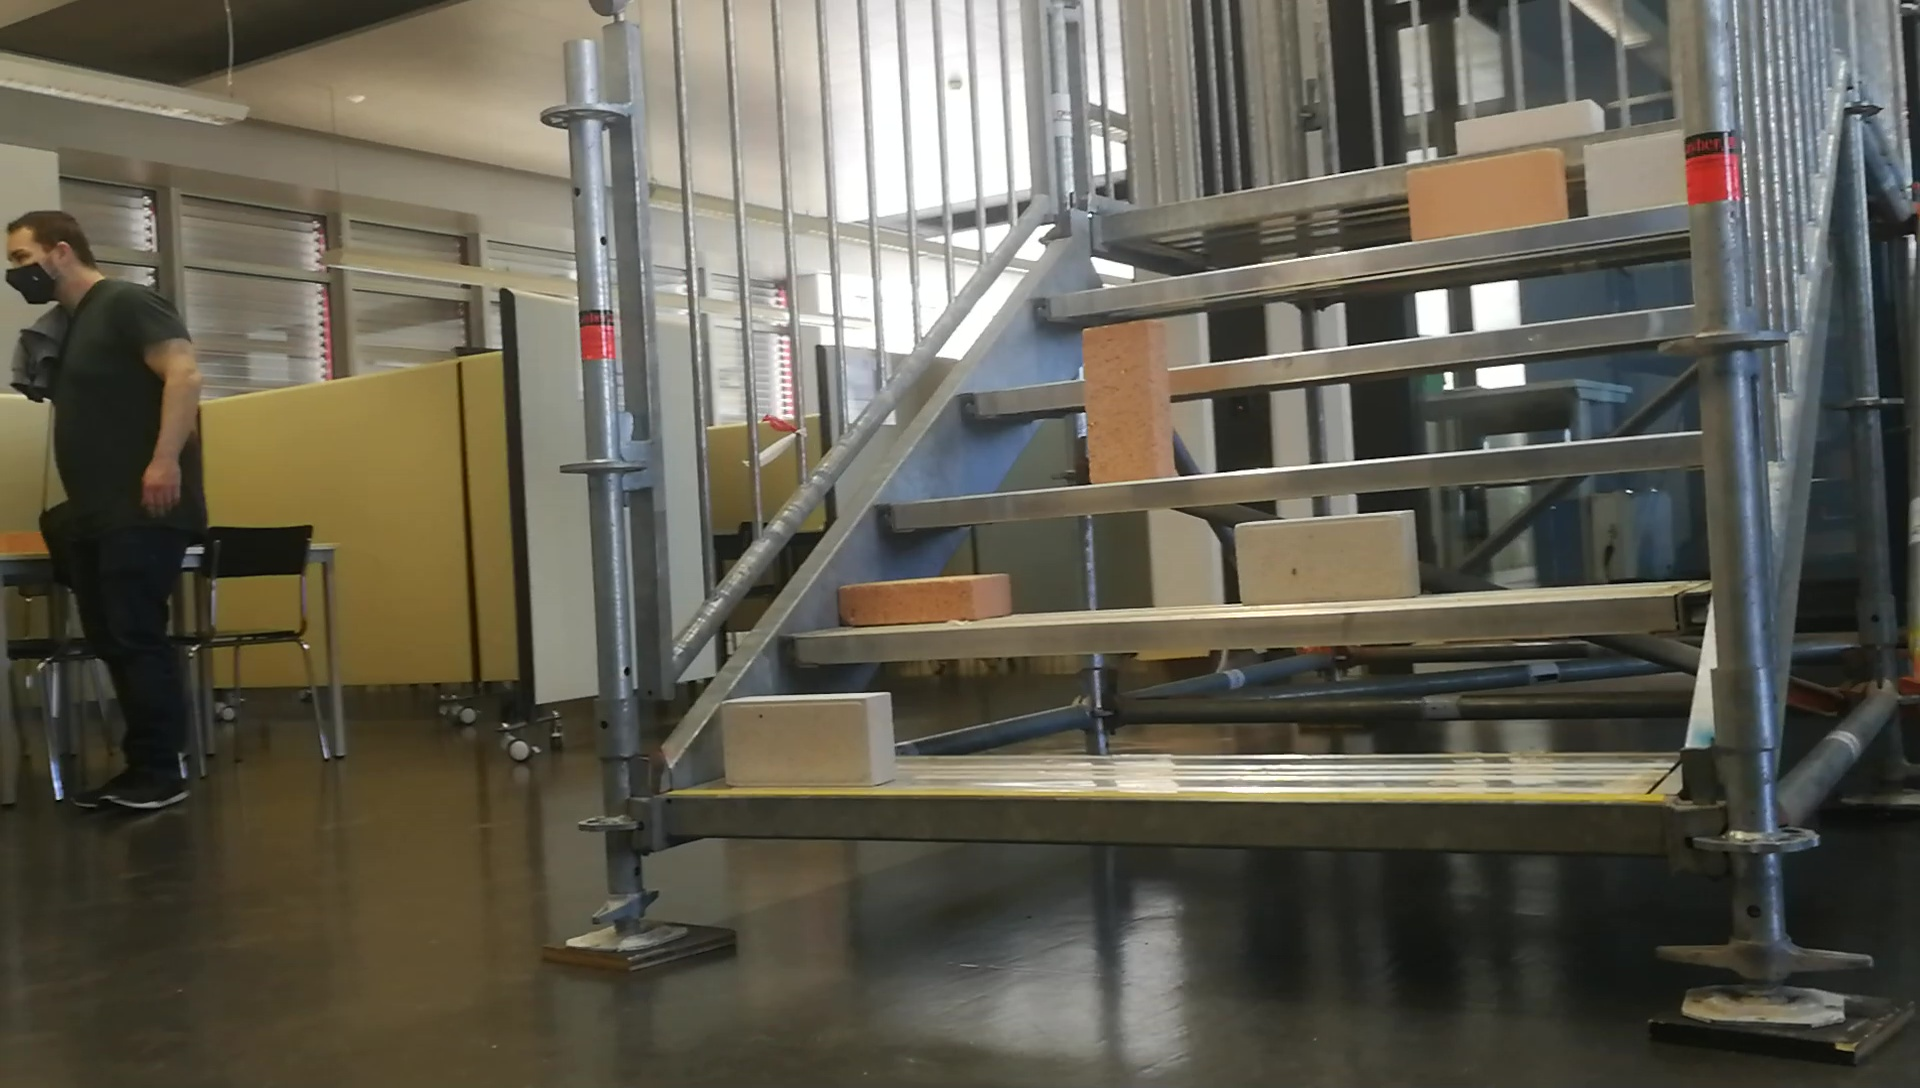brick: (1234, 513, 1414, 601), (723, 692, 895, 782), (1083, 320, 1172, 481), (1410, 150, 1563, 235), (1586, 127, 1685, 218), (843, 574, 1007, 620), (1457, 102, 1601, 150)
edge: (953, 306, 1702, 415), (877, 433, 1702, 531), (1027, 208, 1689, 320), (665, 790, 1671, 853), (779, 595, 1712, 658)
stairs: (535, 5, 1778, 1063)
